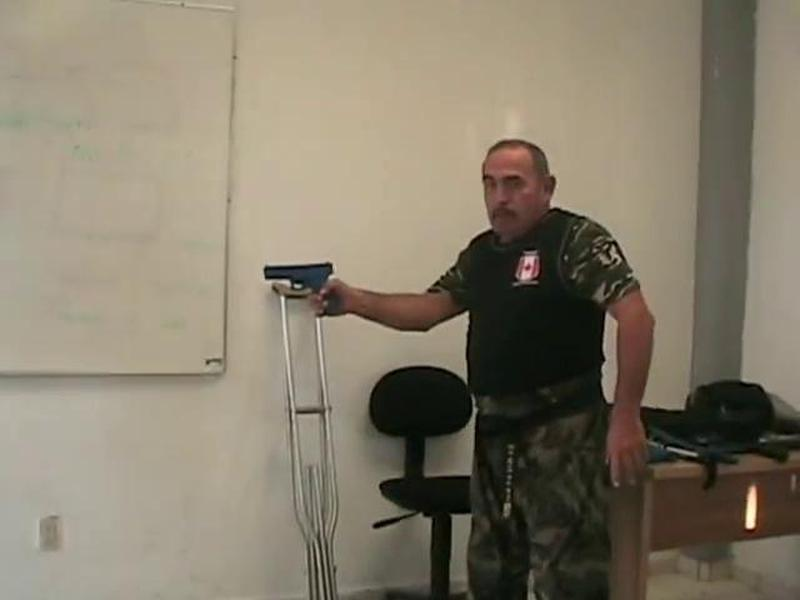Pistola: (262, 258, 340, 304)
